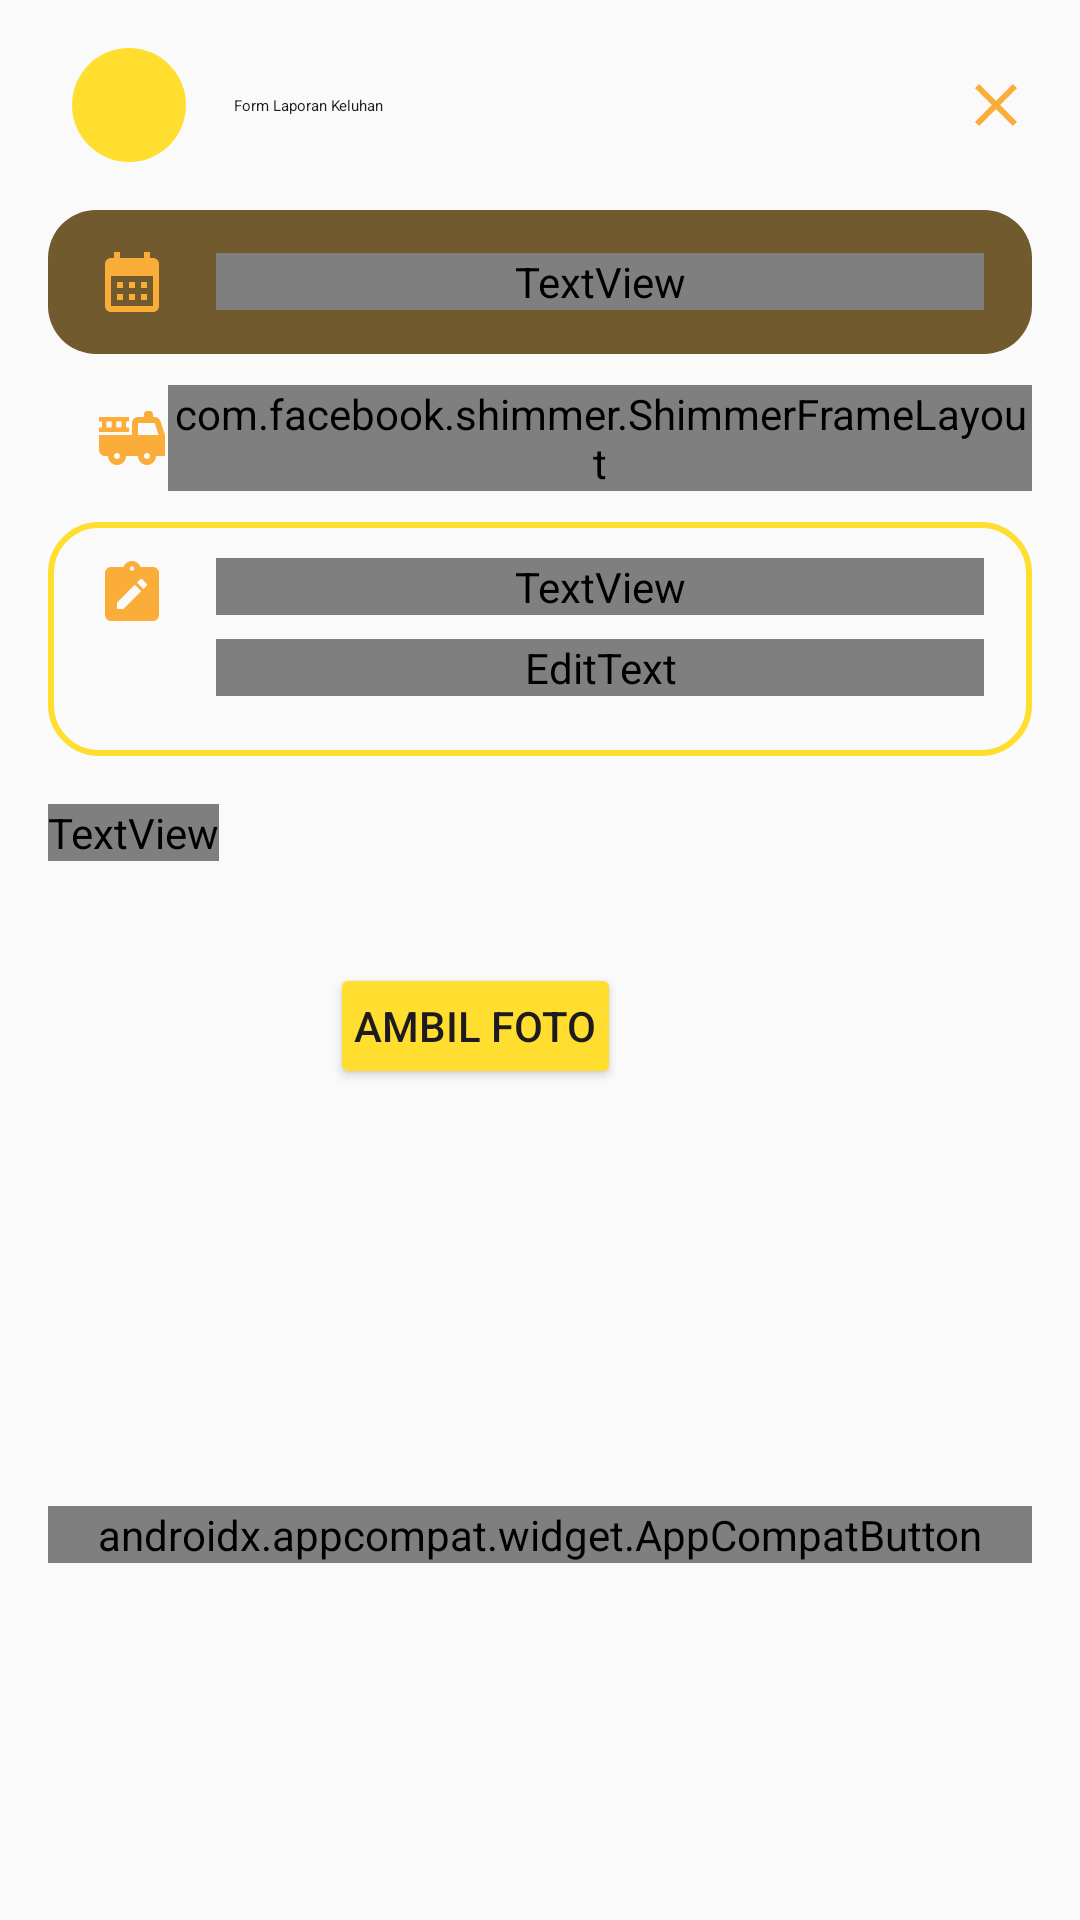

Icon click points for this 1080px×1920px phone screenshot, format (x,y):
calendar: (132,282)
note: (132,591)
truck: (132,438)
Tutup Dialog: (996,105)
